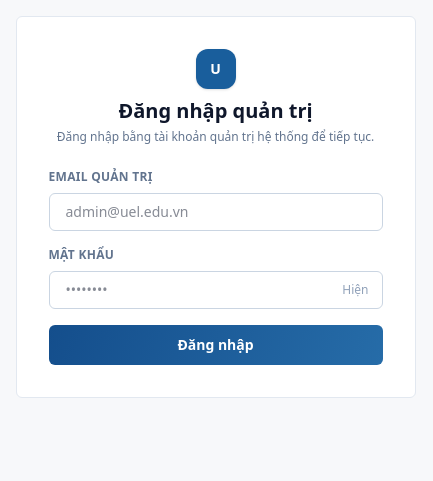
it: Brief A1 & PLAN_ADMIN Mục 8: Admin Shell, Login, Layout & Overview › 1. Trang đăng nhập quản trị (/admin/login) › login lỗi hiển thị thông báo inline trong form (không toast lớn)
Type "wrong@uel.edu.vn" into the field labelled "Email quản trị". click: [216, 212]
box: [48,193,382,231]
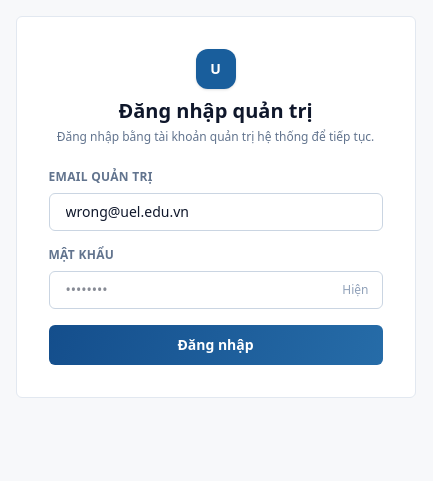
Type "wrongpass" into the password field labelled "Mật khẩu". click: [216, 290]
box: [48,271,382,309]
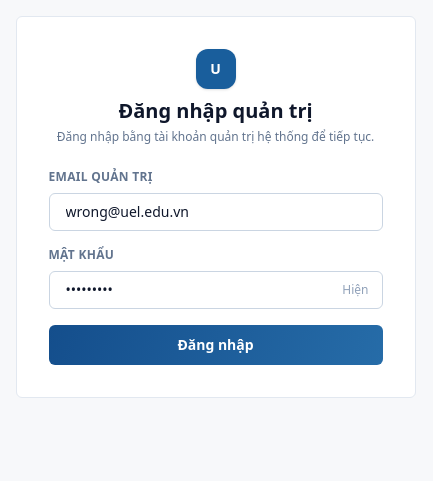
Click the button "Đăng nhập". click: [216, 345]
box: [48,325,382,365]
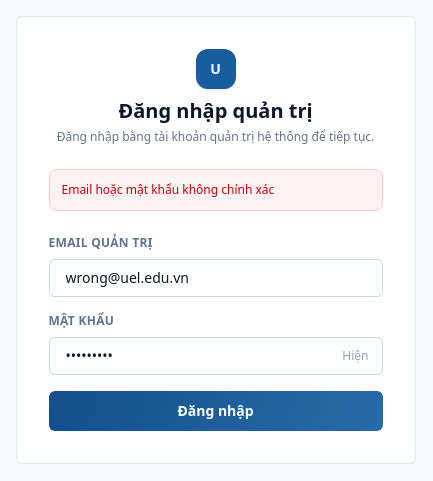
Check: the message reads "Email hoặc mật khẩu không chính xác", box [62,181,274,198]
